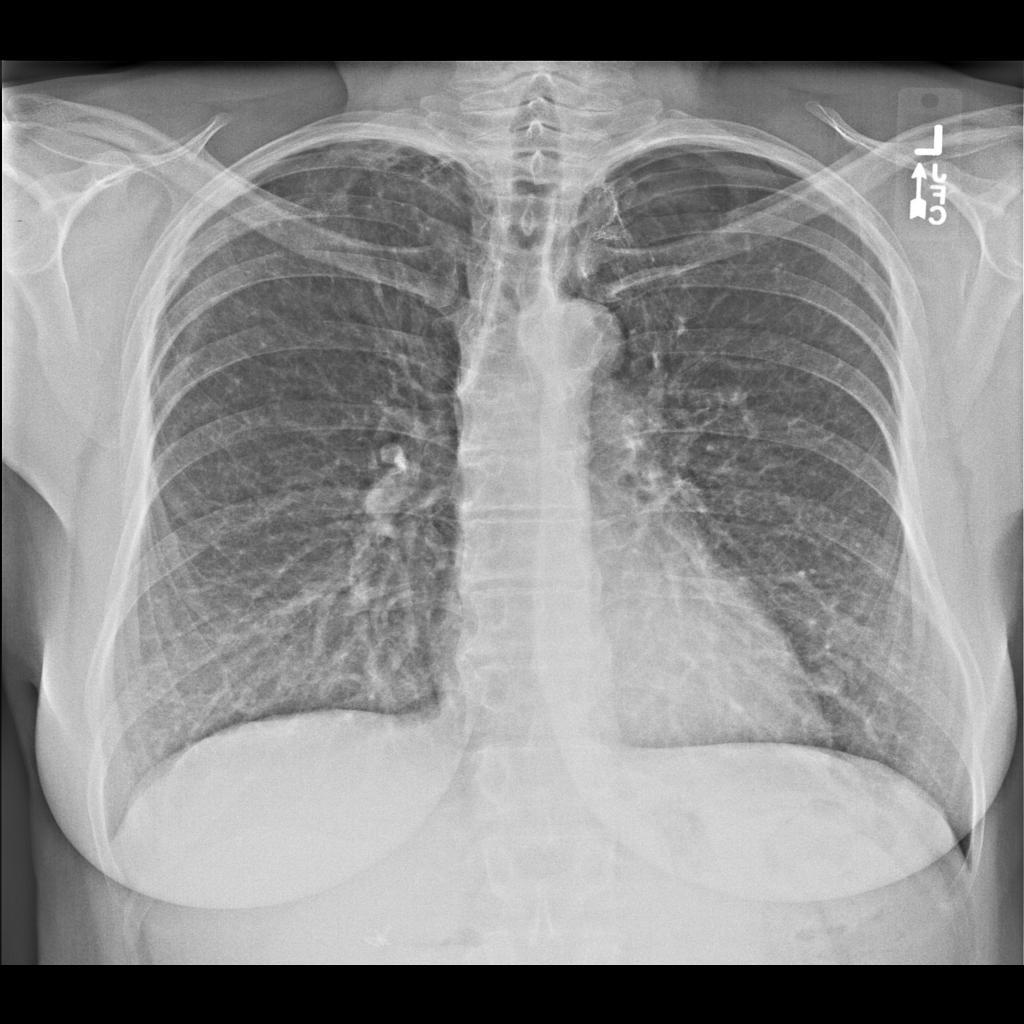Nodule: (807, 661, 852, 702)
